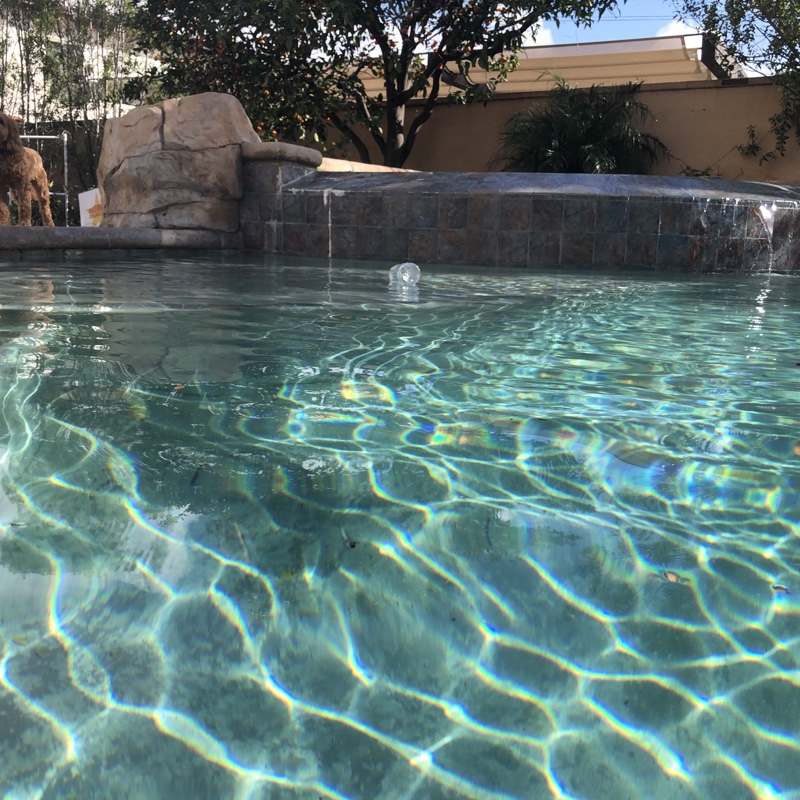Plastic Bottle: (387, 260, 422, 286)
